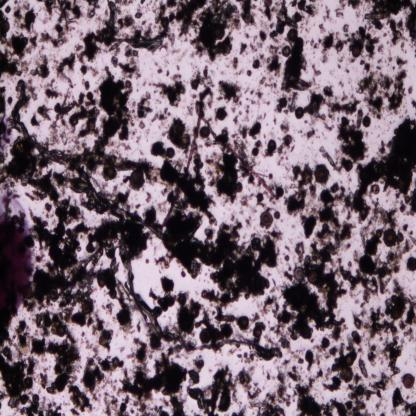Background material: (350, 118, 416, 220), (200, 225, 281, 301), (278, 280, 352, 338), (28, 202, 82, 274), (118, 354, 188, 402), (273, 349, 323, 416), (79, 222, 150, 268), (96, 66, 132, 156), (34, 258, 96, 310), (106, 0, 167, 52), (164, 207, 206, 280), (75, 0, 119, 65), (188, 365, 242, 416), (192, 0, 235, 64), (303, 253, 347, 315), (356, 67, 409, 118), (359, 0, 416, 46), (0, 29, 51, 78), (0, 164, 63, 203), (46, 338, 82, 395), (361, 197, 401, 248), (312, 220, 357, 264), (336, 264, 378, 308), (279, 35, 310, 92), (335, 116, 370, 163), (0, 353, 30, 407), (47, 110, 84, 153), (248, 33, 282, 78), (166, 0, 205, 39), (384, 278, 416, 324), (36, 0, 85, 30), (148, 73, 186, 109), (367, 334, 404, 370), (383, 238, 413, 279), (217, 152, 240, 205), (243, 74, 279, 106), (362, 309, 400, 339), (374, 38, 409, 70), (52, 49, 79, 89), (324, 93, 361, 122), (330, 180, 356, 220), (346, 382, 376, 416), (149, 276, 178, 310), (93, 311, 116, 352), (234, 348, 258, 386), (117, 293, 136, 340), (83, 357, 109, 391), (334, 342, 354, 385), (283, 183, 308, 217), (93, 261, 121, 291), (318, 189, 340, 227), (0, 82, 13, 146), (258, 389, 287, 416), (38, 23, 68, 49), (59, 290, 96, 311), (67, 383, 92, 414), (304, 93, 328, 125), (231, 104, 252, 140), (358, 24, 379, 60), (215, 76, 242, 104), (131, 337, 150, 373), (118, 53, 140, 84), (187, 355, 208, 387), (189, 64, 216, 88), (371, 370, 394, 398), (135, 90, 155, 120), (289, 162, 316, 184), (10, 0, 30, 29), (391, 386, 410, 416), (99, 391, 121, 416), (32, 308, 50, 338), (52, 168, 76, 190), (197, 84, 214, 115), (306, 343, 324, 371), (96, 354, 124, 372), (22, 6, 39, 35), (211, 306, 238, 324), (31, 334, 48, 362), (60, 86, 77, 114), (17, 79, 39, 100), (260, 294, 281, 316), (346, 331, 366, 354), (301, 213, 318, 239), (205, 157, 219, 188), (243, 381, 265, 400), (169, 394, 188, 416), (322, 400, 348, 416), (126, 401, 153, 416), (16, 320, 32, 345), (322, 374, 342, 394), (76, 104, 99, 121), (297, 0, 320, 17), (154, 252, 172, 273), (278, 12, 298, 30), (405, 186, 416, 217), (83, 0, 100, 20), (276, 134, 292, 154), (45, 400, 65, 416), (321, 30, 335, 52), (150, 141, 166, 160), (152, 106, 171, 122), (153, 0, 165, 25), (233, 138, 248, 158), (20, 401, 40, 416), (168, 128, 182, 149), (376, 275, 392, 293), (50, 312, 63, 334), (46, 80, 61, 99), (25, 356, 39, 376), (294, 241, 306, 264), (305, 200, 321, 217), (127, 98, 136, 128), (343, 32, 362, 46), (80, 332, 93, 352), (350, 310, 363, 329), (248, 121, 261, 140), (66, 325, 78, 345), (268, 225, 283, 241), (229, 404, 248, 416), (205, 210, 219, 226), (7, 336, 21, 352), (39, 104, 52, 121), (231, 13, 242, 33), (335, 32, 345, 54), (259, 20, 269, 42), (87, 315, 97, 336), (258, 7, 273, 21), (72, 311, 86, 326), (288, 91, 298, 112), (36, 372, 49, 388), (355, 107, 364, 130), (152, 404, 169, 416), (404, 327, 416, 344), (78, 128, 98, 138), (323, 4, 333, 24), (185, 100, 196, 118), (237, 0, 252, 13), (73, 90, 85, 106), (336, 0, 346, 19), (322, 84, 335, 98), (359, 59, 371, 74), (300, 128, 315, 140), (64, 307, 76, 322), (280, 117, 291, 133), (0, 389, 8, 411), (364, 384, 374, 401), (250, 309, 260, 326), (323, 346, 335, 360), (22, 300, 36, 312), (237, 163, 248, 178), (346, 0, 362, 10), (269, 276, 279, 292), (256, 202, 272, 212), (239, 41, 249, 57), (310, 63, 321, 77), (31, 114, 42, 127), (279, 0, 288, 15), (399, 199, 408, 214), (113, 407, 128, 416), (323, 121, 335, 132), (247, 156, 259, 167), (102, 303, 114, 314), (294, 12, 305, 24), (378, 140, 386, 156), (84, 99, 98, 108), (334, 164, 345, 175), (309, 184, 317, 199), (251, 10, 257, 30), (240, 196, 250, 208), (210, 152, 222, 162), (110, 379, 119, 392), (267, 321, 276, 334), (44, 200, 52, 214), (376, 397, 384, 411), (280, 340, 291, 350), (91, 390, 101, 401), (234, 67, 246, 76), (245, 215, 254, 227), (313, 38, 322, 50), (0, 0, 10, 10), (310, 84, 320, 94), (266, 370, 275, 381), (0, 9, 9, 20), (393, 192, 400, 206), (319, 146, 327, 158), (134, 8, 142, 20), (270, 30, 278, 42), (254, 322, 266, 330), (276, 23, 284, 35), (400, 41, 407, 54), (248, 173, 255, 186), (231, 57, 238, 70), (178, 51, 188, 60), (40, 395, 46, 410), (89, 67, 99, 76), (320, 52, 328, 63), (161, 396, 169, 407), (69, 408, 80, 416), (354, 372, 360, 386), (137, 319, 143, 333), (0, 152, 7, 164), (284, 272, 294, 280), (276, 156, 284, 166), (258, 170, 268, 178), (254, 140, 263, 148), (319, 23, 327, 32), (342, 24, 350, 33), (273, 104, 281, 113), (269, 182, 278, 190), (76, 42, 83, 52), (341, 91, 348, 101), (409, 38, 416, 48), (170, 48, 181, 54), (399, 319, 405, 330), (82, 79, 88, 90), (92, 347, 98, 358), (290, 0, 298, 8), (44, 364, 52, 372), (271, 6, 279, 14), (6, 97, 14, 105), (127, 353, 135, 361), (337, 54, 345, 62), (169, 37, 175, 47), (311, 76, 317, 86), (80, 65, 86, 75), (264, 190, 270, 200), (348, 58, 358, 64), (284, 164, 290, 174), (411, 98, 416, 110), (358, 301, 366, 308), (284, 244, 291, 252), (61, 199, 72, 204), (139, 121, 145, 130), (299, 24, 304, 34), (310, 37, 315, 47), (119, 346, 126, 353), (269, 22, 276, 29), (255, 114, 262, 121), (356, 9, 362, 17), (290, 144, 296, 152), (273, 114, 277, 126), (295, 128, 303, 134), (338, 80, 344, 88), (250, 4, 258, 10), (250, 192, 256, 200), (249, 206, 257, 212), (78, 31, 84, 39), (220, 144, 226, 152), (38, 408, 44, 416), (354, 298, 360, 306), (136, 135, 141, 144), (325, 371, 330, 380), (408, 85, 413, 94), (306, 14, 310, 25), (336, 63, 342, 70), (386, 190, 392, 197), (305, 27, 312, 33), (244, 33, 250, 40), (287, 262, 292, 270), (238, 209, 244, 215), (281, 92, 287, 98), (180, 272, 186, 278), (402, 225, 408, 231), (268, 174, 274, 180), (144, 258, 150, 264), (310, 337, 315, 344), (230, 214, 235, 221), (345, 67, 350, 74), (176, 64, 180, 72), (166, 69, 170, 77), (347, 262, 353, 267), (347, 46, 352, 52), (220, 70, 225, 76), (153, 61, 158, 67), (283, 110, 288, 116), (275, 1, 280, 7), (140, 0, 147, 4), (157, 69, 162, 74), (269, 197, 274, 202), (329, 70, 334, 75), (160, 132, 166, 136), (282, 176, 288, 180), (283, 150, 287, 156), (64, 402, 70, 406), (143, 81, 147, 87), (133, 130, 137, 136), (292, 224, 296, 230), (410, 230, 414, 236), (309, 0, 316, 3), (263, 113, 266, 120), (376, 133, 380, 138), (406, 394, 410, 399), (399, 115, 404, 119), (316, 135, 321, 139), (257, 181, 261, 186), (380, 412, 385, 416), (366, 130, 368, 139), (263, 133, 266, 139), (304, 120, 308, 124), (305, 40, 309, 44), (404, 110, 408, 114), (413, 48, 416, 53), (322, 131, 324, 138), (277, 99, 280, 103), (266, 122, 269, 126), (273, 201, 276, 205), (286, 156, 289, 160), (314, 21, 316, 26), (414, 53, 416, 58), (260, 1, 262, 5), (253, 0, 257, 2), (264, 140, 266, 144), (321, 3, 323, 7), (293, 140, 296, 142), (390, 121, 392, 124), (415, 112, 416, 116), (262, 0, 264, 2)
Cellulose filter fibre: (134, 297, 281, 359), (71, 162, 168, 240), (7, 78, 72, 170), (117, 232, 139, 298)
Diatom: (130, 170, 144, 190), (383, 229, 397, 247), (314, 166, 328, 184), (260, 211, 273, 227), (365, 241, 378, 256), (402, 373, 414, 389), (325, 152, 336, 169), (199, 329, 212, 343), (172, 122, 184, 137), (358, 360, 368, 378), (293, 266, 305, 281), (216, 106, 227, 121), (22, 283, 32, 299), (106, 167, 118, 179), (390, 306, 402, 318), (288, 29, 299, 42), (281, 311, 291, 325), (239, 316, 249, 330), (214, 25, 224, 39), (181, 134, 190, 149), (267, 139, 277, 152), (351, 44, 360, 58), (343, 160, 353, 172), (166, 146, 176, 158), (308, 271, 318, 283), (200, 126, 210, 138), (108, 42, 120, 52), (281, 46, 291, 58), (362, 116, 372, 128), (0, 20, 10, 32), (252, 326, 262, 338), (408, 257, 416, 271), (24, 376, 33, 388), (295, 107, 304, 119), (321, 337, 330, 349), (57, 325, 66, 337), (252, 238, 261, 250), (346, 353, 354, 366), (242, 13, 252, 23), (81, 303, 90, 314), (44, 316, 52, 328), (276, 186, 284, 198), (305, 350, 313, 362), (70, 114, 78, 126), (178, 293, 186, 305), (108, 288, 116, 299), (56, 173, 64, 184), (279, 97, 287, 108), (160, 16, 168, 27), (372, 184, 380, 195), (378, 267, 386, 278), (120, 402, 128, 412), (99, 336, 107, 346), (235, 182, 243, 192), (88, 120, 96, 130), (3, 346, 11, 356), (251, 146, 259, 156), (190, 80, 198, 90), (251, 402, 266, 407), (22, 346, 30, 355), (360, 208, 368, 217), (396, 233, 404, 242), (257, 192, 264, 202), (50, 288, 57, 298), (409, 236, 416, 246), (264, 0, 272, 8), (32, 395, 40, 403), (392, 366, 400, 374), (345, 402, 353, 410), (86, 92, 94, 100), (376, 228, 382, 238), (410, 405, 415, 416), (55, 103, 60, 113), (357, 387, 364, 394), (239, 376, 245, 384), (284, 254, 290, 262), (274, 211, 280, 219), (202, 290, 208, 298), (125, 80, 131, 87), (5, 6, 11, 13), (405, 195, 410, 203), (233, 96, 238, 102), (247, 70, 252, 76)
Microfibre: (161, 95, 280, 227)
Pen: (0, 194, 32, 334)
